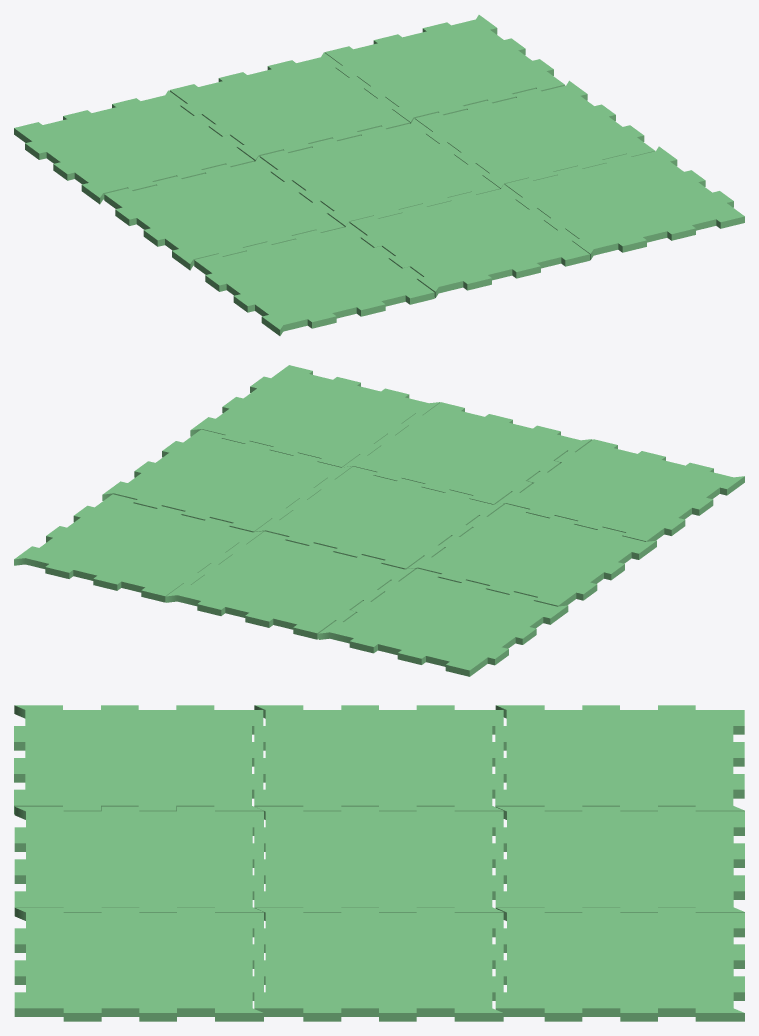
The model's file is SM_Room_Puzzle.fbx.
3 views of the same model, one above another, from view 1: azimuth 30°, elevation 25°; view 2: azimuth 150°, elevation 25°; view 3: azimuth 270°, elevation 25° (orthographic). The views are drawn at different scales.
Parts seen in each view (by area): view 1: Puzzle1; view 2: Puzzle1; view 3: Puzzle1.
Part boxes in pixels (x1=…): Puzzle1: x1=14, y1=15, x2=744, y2=335; Puzzle1: x1=14, y1=365, x2=744, y2=676; Puzzle1: x1=14, y1=705, x2=744, y2=1021.
Bounding box in the file's own units: 1.88 × 0.0247 × 1.88.
